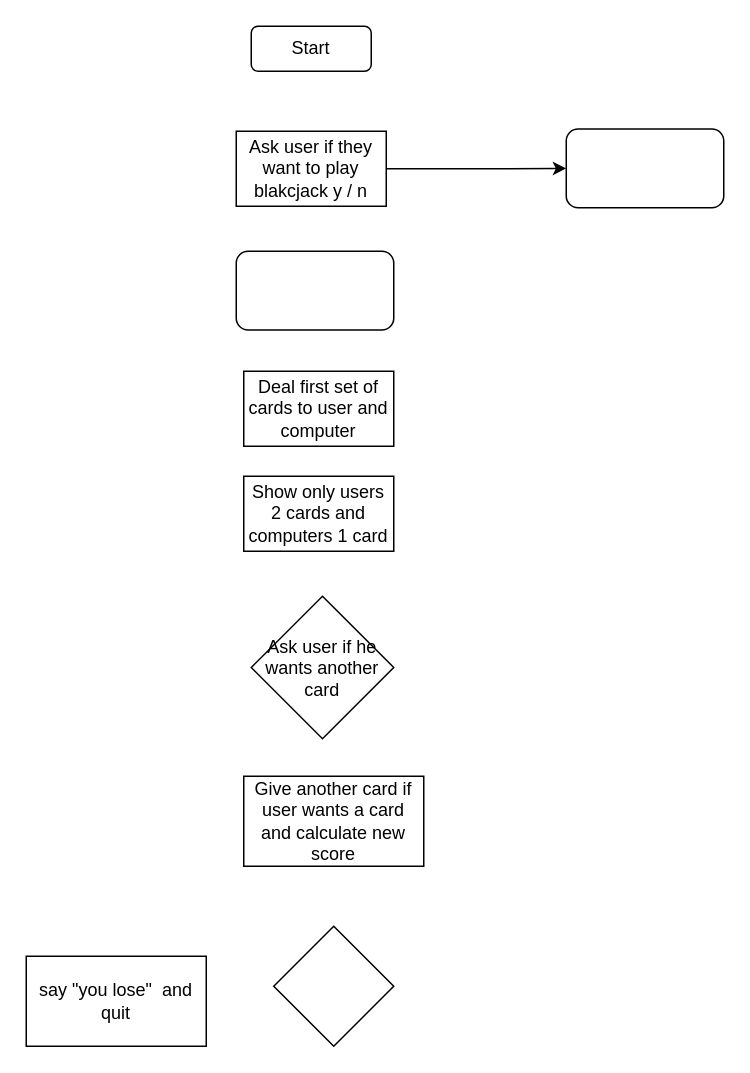
Image size: 750x1073. Some labels were removed from this diagram. Here are the shapes that lost their labels. From the top down, the box of each, then its label:
(565, 128, 724, 208): Say "See you soon" and exit
(235, 250, 394, 330): Start BlackJack Game
(272, 925, 394, 1046): If user score > 21
